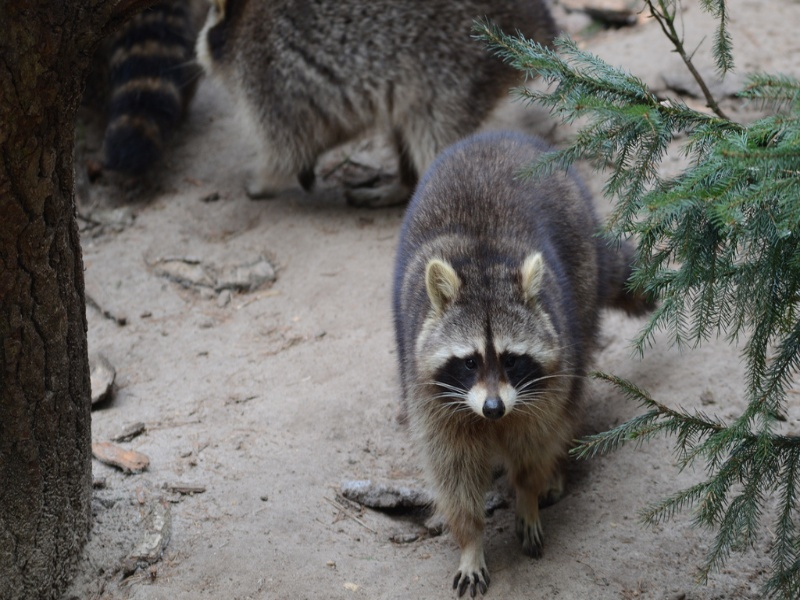raccoon: (387, 124, 672, 594), (185, 6, 564, 216)
